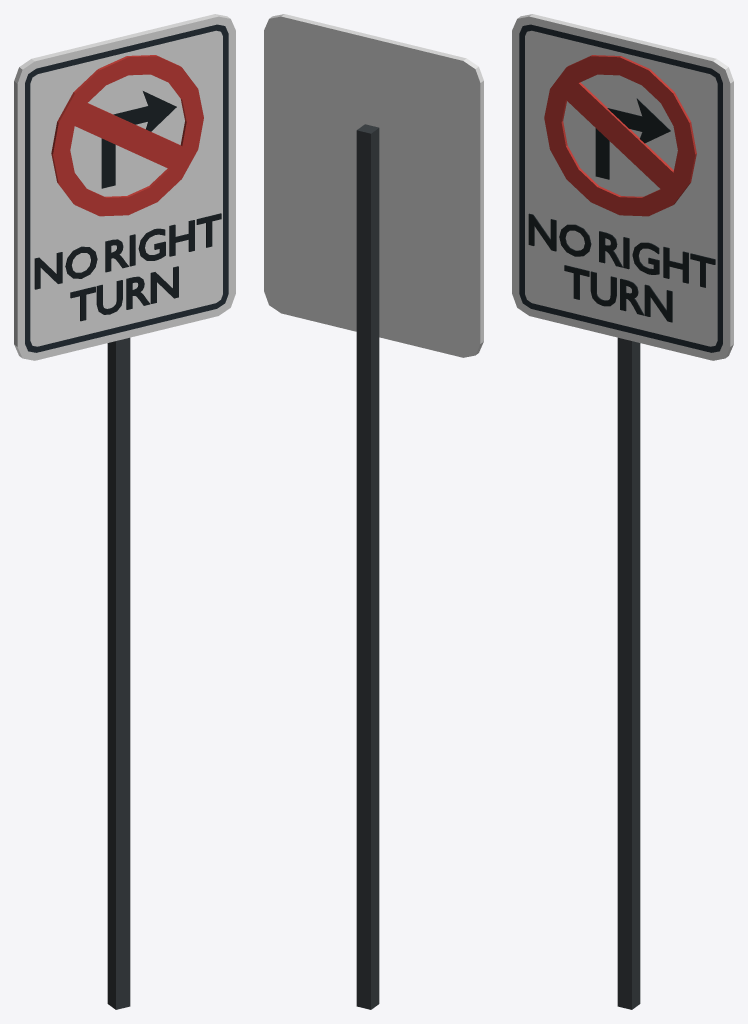
The model's file is SM_FloorProps_RoadSign_22.fbx.
3 views of the same model, side by side, from view 1: azimuth 30°, elevation 25°; view 2: azimuth 150°, elevation 25°; view 3: azimuth 330°, elevation 25° (orthographic).
Visible parts, largest first — view 1: SM_FloorProps_RoadSign_22; view 2: SM_FloorProps_RoadSign_22; view 3: SM_FloorProps_RoadSign_22.
Boxes of the visible parts, box(x1,y1,x2,y2) form: SM_FloorProps_RoadSign_22: box(14, 14, 235, 1009); SM_FloorProps_RoadSign_22: box(264, 14, 483, 1009); SM_FloorProps_RoadSign_22: box(512, 14, 733, 1009).
Size of the model in its own units: 0.6461 by 2.75 by 0.0693.
